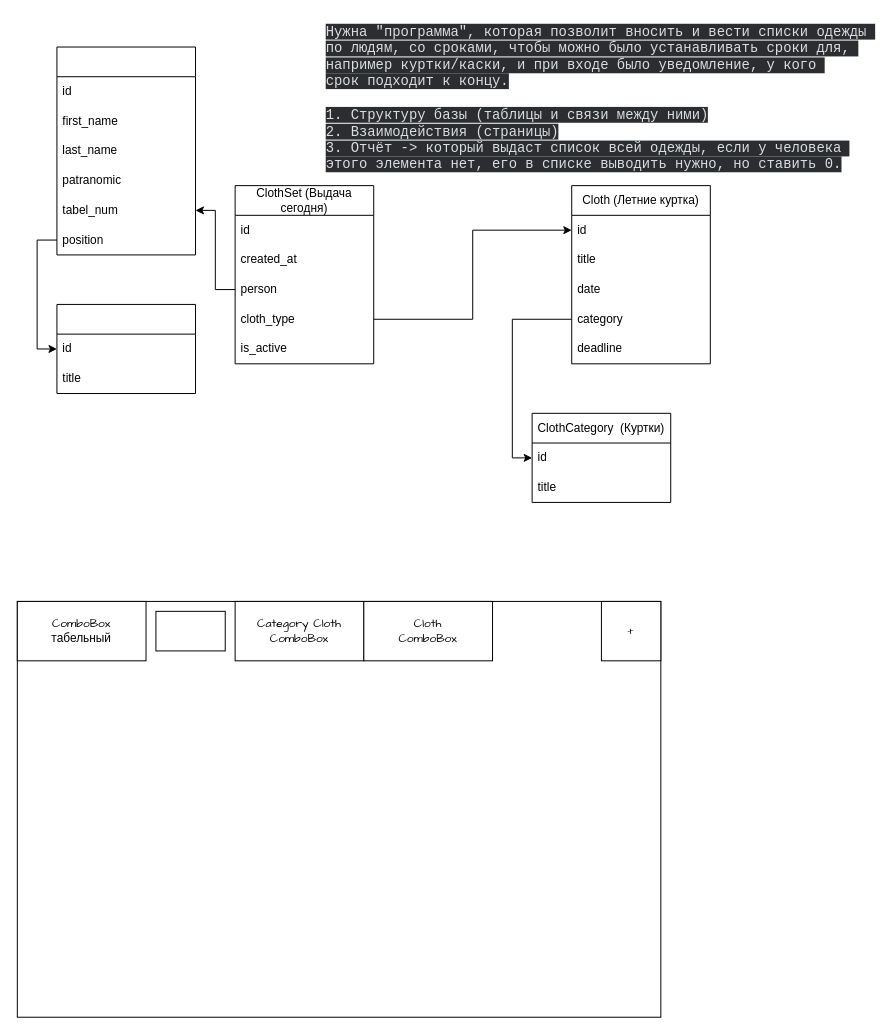
The diagram is 896 pixels wide and 1035 high, and some of its shapes have lost their labels. The box of each missing label's shape, as (x1, y1, x2, y2) in pixels:
Person (Игорь): (56, 46, 196, 255)
Position (Электрик): (56, 303, 196, 394)
ФИО: (155, 610, 225, 651)
